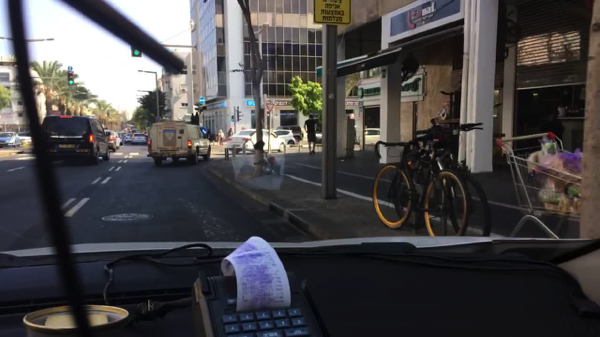bike: (397, 119, 492, 236), (372, 136, 470, 237), (255, 154, 280, 178), (362, 129, 380, 146)
car: (34, 116, 110, 167), (147, 121, 212, 166), (221, 129, 286, 154), (272, 129, 294, 146), (0, 131, 20, 149), (104, 131, 118, 152), (291, 126, 304, 143), (17, 132, 34, 144), (245, 132, 259, 145), (132, 135, 146, 146), (125, 132, 133, 146), (118, 134, 124, 146)
person: (302, 113, 320, 154), (217, 129, 224, 144), (227, 129, 234, 140)
traffic light: (132, 39, 142, 58), (67, 73, 74, 84), (147, 125, 151, 131)
traffic sign: (313, 0, 352, 23), (199, 125, 208, 137), (199, 96, 205, 105), (156, 117, 162, 124), (67, 66, 72, 71)
